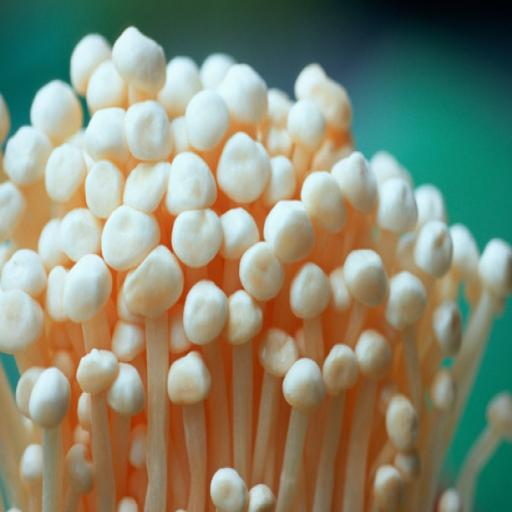Enoki Mushroom: (0, 17, 511, 510)
